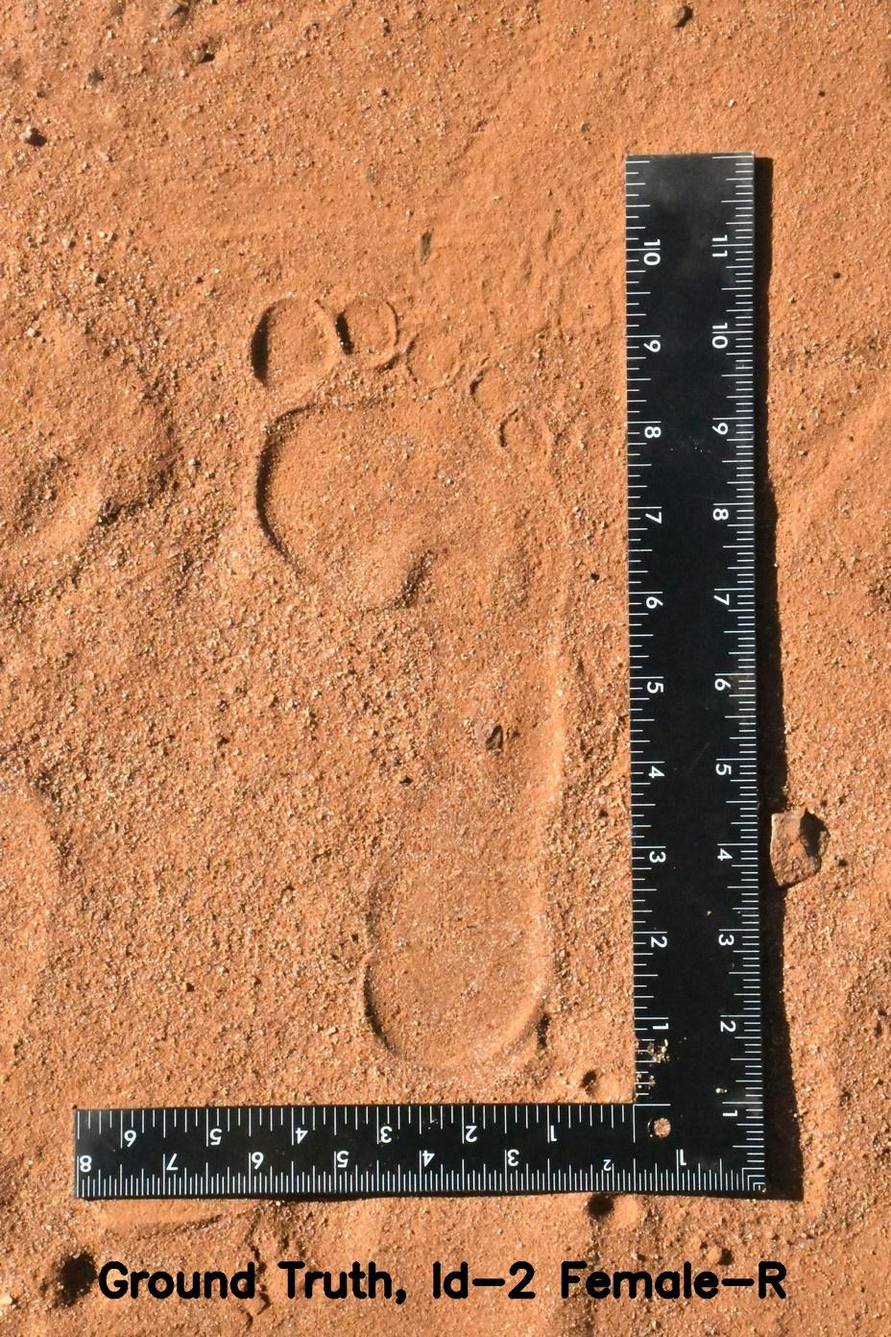human_footprint: (212, 254, 621, 1085)
